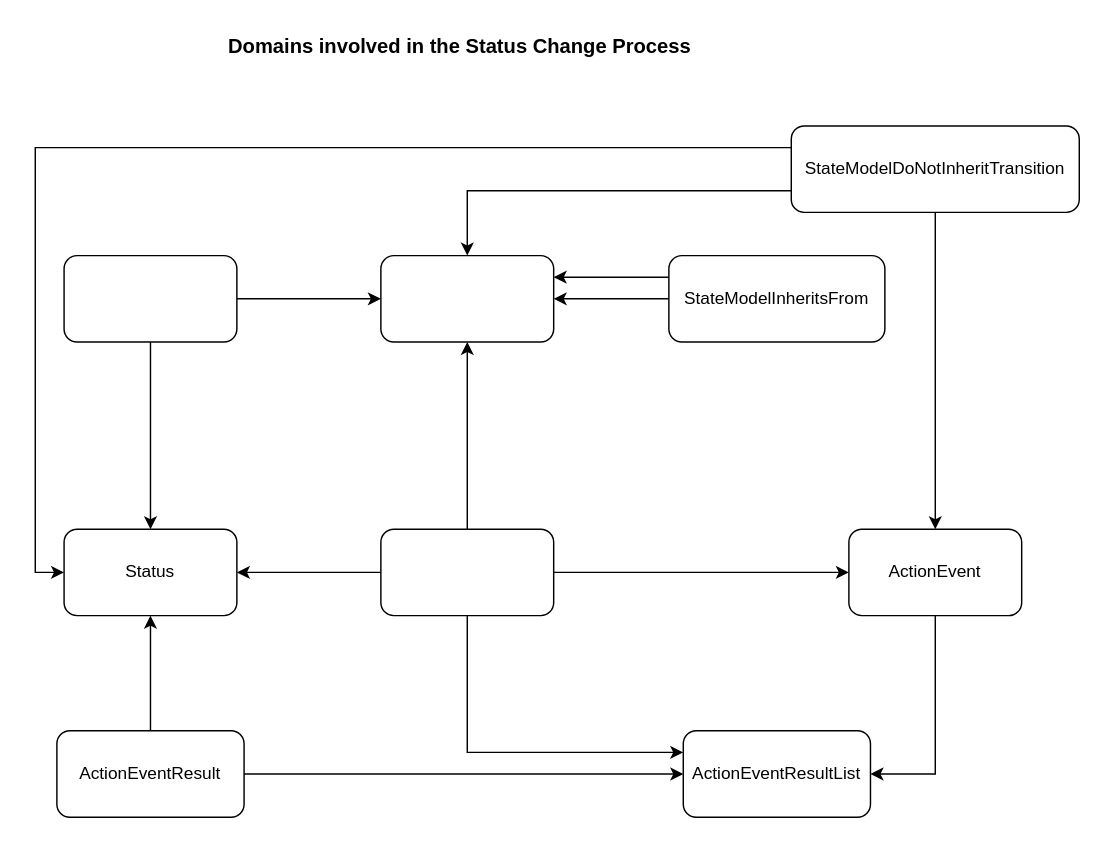
Image size: 1104x842. Some labels were removed from this diagram. The shapes that lost their labels are listed below. From the top down, each one's centre as x and y in pixels, then its label:
the point at 150,298: StateModelStatus
the point at 466,298: StateModel
the point at 466,572: AvailableAction
